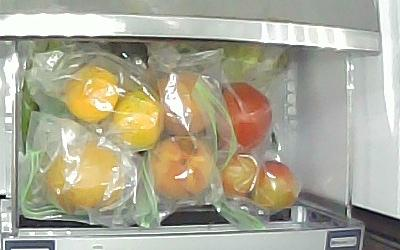peach_vinyl: (146, 133, 215, 199), (154, 70, 214, 135)
pear_vinyl: (46, 137, 124, 211)
tangerine_vinyl: (62, 62, 119, 123), (111, 88, 163, 146)
tomato_vinyl: (217, 79, 272, 151), (248, 159, 297, 211), (214, 152, 258, 200)
